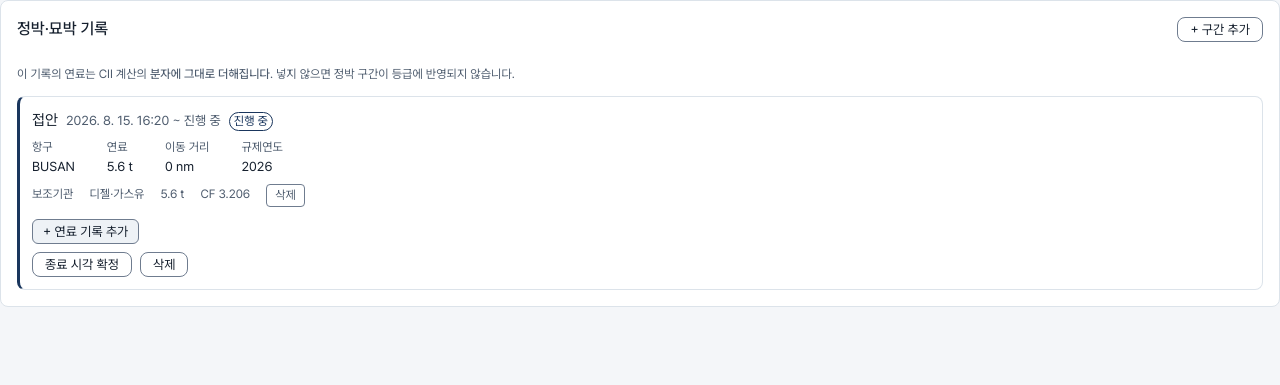
Test case: 구간 연료 편집 (#638) › 0톤은 저장하지 않고 화면에서 막는다 — 서버까지 보내지 않는다
The image size is (1280, 385).
Click the button with test id "nu-fuel-add": (86, 231) x1=32 y1=219 x2=139 y2=244
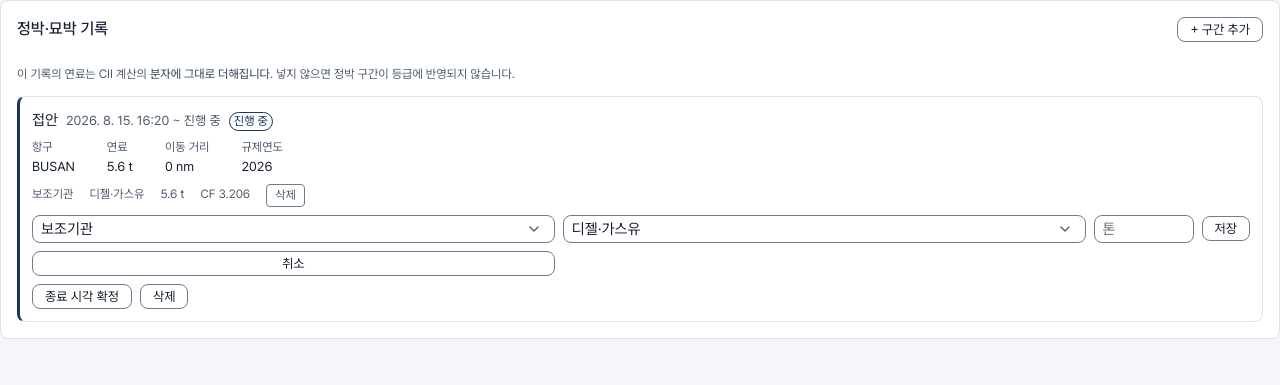
In the number field named "연료량": (1144, 229) x1=1094 y1=215 x2=1194 y2=243, type "0"
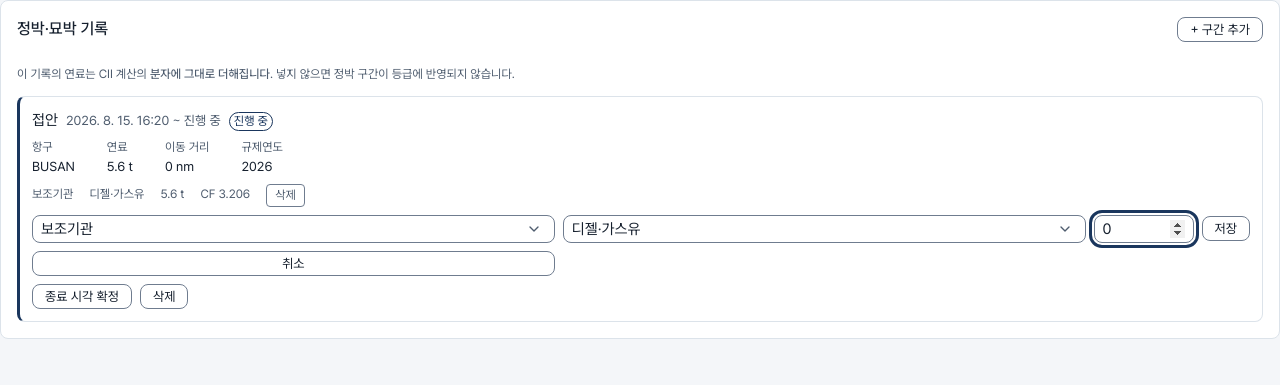
Click the button with test id "nu-fuel-save": (1226, 229) x1=1202 y1=216 x2=1250 y2=241
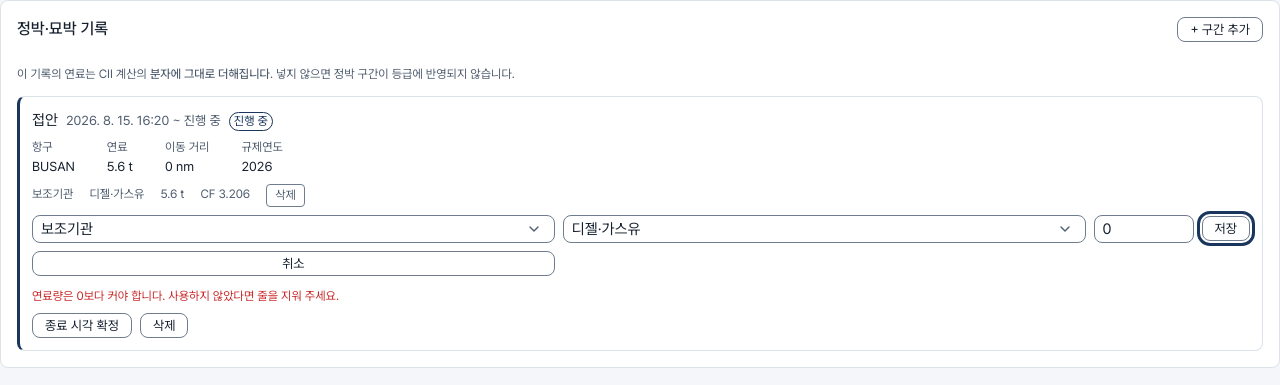
expect the text "연료량은 0보다 커야 합니다. 사용하지 않았다면 줄을 지워 주세요." is shown: met, box x1=32 y1=289 x2=339 y2=303
